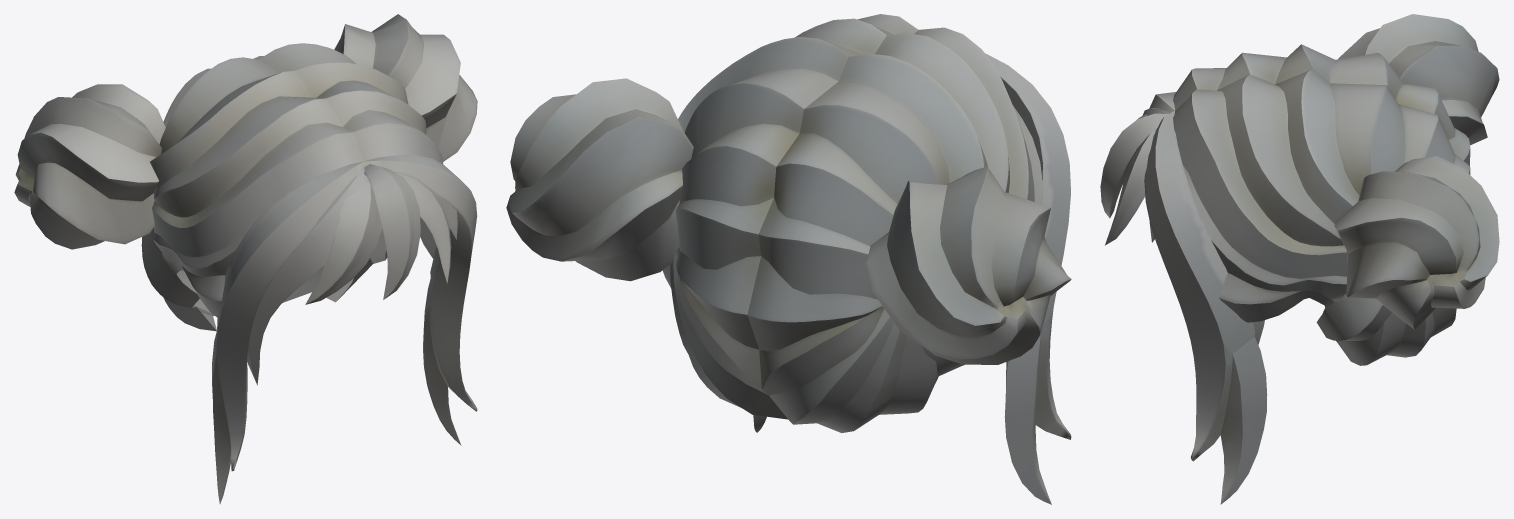
The model's file is Hair_Buns.gltf.
3 views of the same model, side by side, from view 1: azimuth 30°, elevation 25°; view 2: azimuth 150°, elevation 25°; view 3: azimuth 270°, elevation 25° (orthographic). The views are drawn at different scales.
Visible parts, largest first — view 1: Hair_Buns; view 2: Hair_Buns; view 3: Hair_Buns.
Boxes of the visible parts, x1=… form: Hair_Buns: x1=14, y1=14, x2=477, y2=504; Hair_Buns: x1=506, y1=14, x2=1071, y2=504; Hair_Buns: x1=1100, y1=14, x2=1499, y2=504.
Bounding box in the file's own units: 0.3015 × 0.2491 × 0.2367.
1 material, 1 textured.
